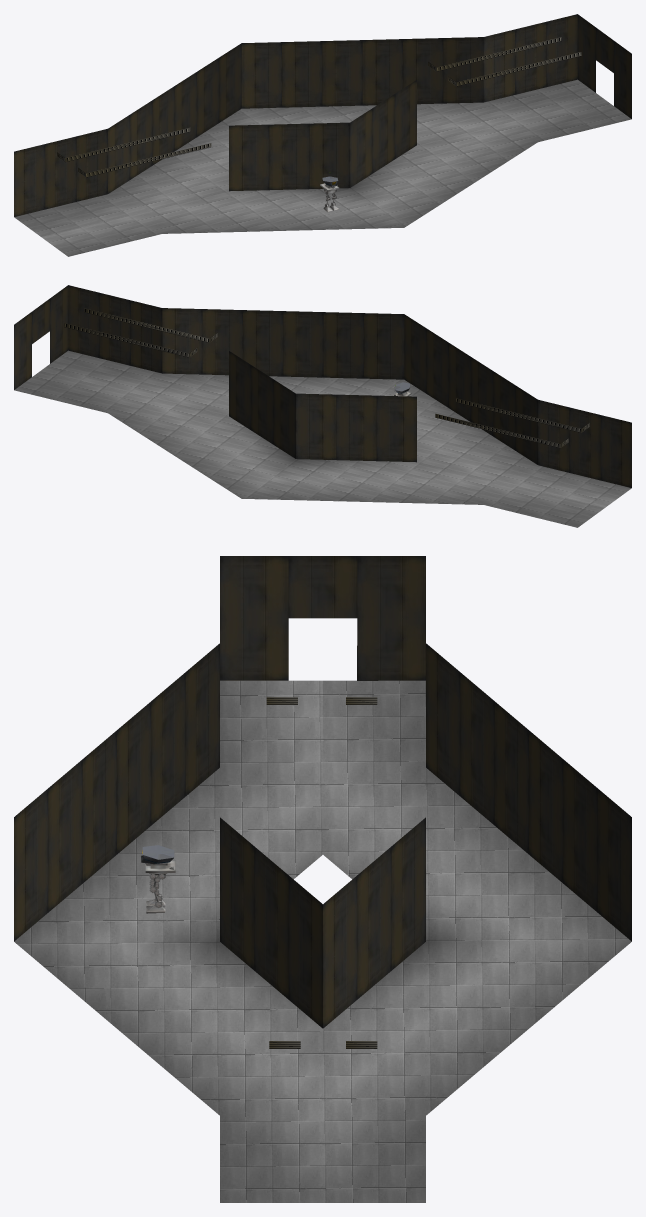
Rendered from room_9.glb.
The picture shows the model from 3 angles, top to bottom: view 1: azimuth 30°, elevation 25°; view 2: azimuth 150°, elevation 25°; view 3: azimuth 270°, elevation 25°; orthographic projection. The views are drawn at different scales.
Parts seen in each view (by area): view 1: floor, W14, W10, W2, W13, W16, W1, W15, LongLights_Lights4, LongLights_Lights1, LongLights_Lights2, LongLights_Lights6; view 2: floor, W9, W8, W3, W12, W6, W4, W15, LongLights_Lights2, LongLights_Lights1, LongLights_Lights6, LongLights_Lights4; view 3: floor, W10, W8, W11, W4, W1, wall, wall31.
Boxes of the visible parts, bbox=[...] form: floor: bbox=[14, 79, 631, 256]; W14: bbox=[241, 37, 483, 108]; W10: bbox=[108, 43, 241, 193]; W2: bbox=[229, 122, 349, 191]; W13: bbox=[14, 128, 107, 216]; W16: bbox=[483, 14, 577, 102]; W1: bbox=[350, 80, 416, 187]; W15: bbox=[577, 14, 631, 118]; LongLights_Lights4: bbox=[57, 128, 190, 162]; LongLights_Lights1: bbox=[428, 37, 561, 71]; LongLights_Lights2: bbox=[448, 52, 581, 86]; LongLights_Lights6: bbox=[78, 143, 211, 177]; floor: bbox=[14, 350, 631, 527]; W9: bbox=[162, 308, 404, 379]; W8: bbox=[404, 314, 537, 464]; W3: bbox=[296, 393, 416, 462]; W12: bbox=[538, 399, 631, 487]; W6: bbox=[68, 285, 162, 373]; W4: bbox=[229, 351, 295, 458]; W15: bbox=[14, 285, 68, 389]; LongLights_Lights2: bbox=[84, 308, 217, 342]; LongLights_Lights1: bbox=[64, 323, 197, 357]; LongLights_Lights6: bbox=[456, 398, 589, 432]; LongLights_Lights4: bbox=[435, 413, 568, 447]; floor: bbox=[14, 680, 631, 1202]; W10: bbox=[426, 643, 631, 941]; W8: bbox=[14, 643, 219, 941]; W11: bbox=[220, 556, 425, 618]; W4: bbox=[323, 817, 425, 1028]; W1: bbox=[220, 817, 322, 1028]; wall: bbox=[357, 618, 425, 680]; wall31: bbox=[220, 618, 288, 680].
Bounding box in the file's own units: 270 × 30.69 × 135.
11 materials, 11 textured.
